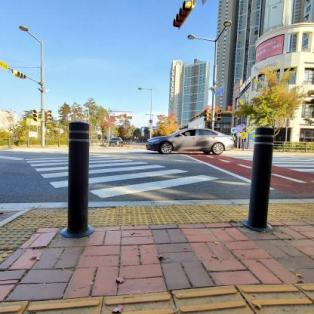Podoctatil: (0, 199, 313, 231), (0, 227, 42, 277)
